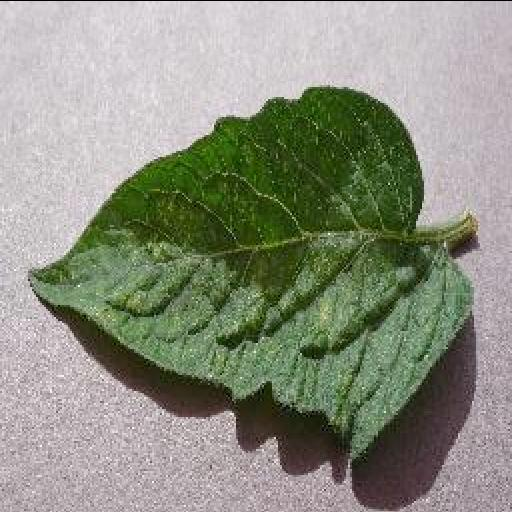disease_tomato: (28, 86, 466, 464)
